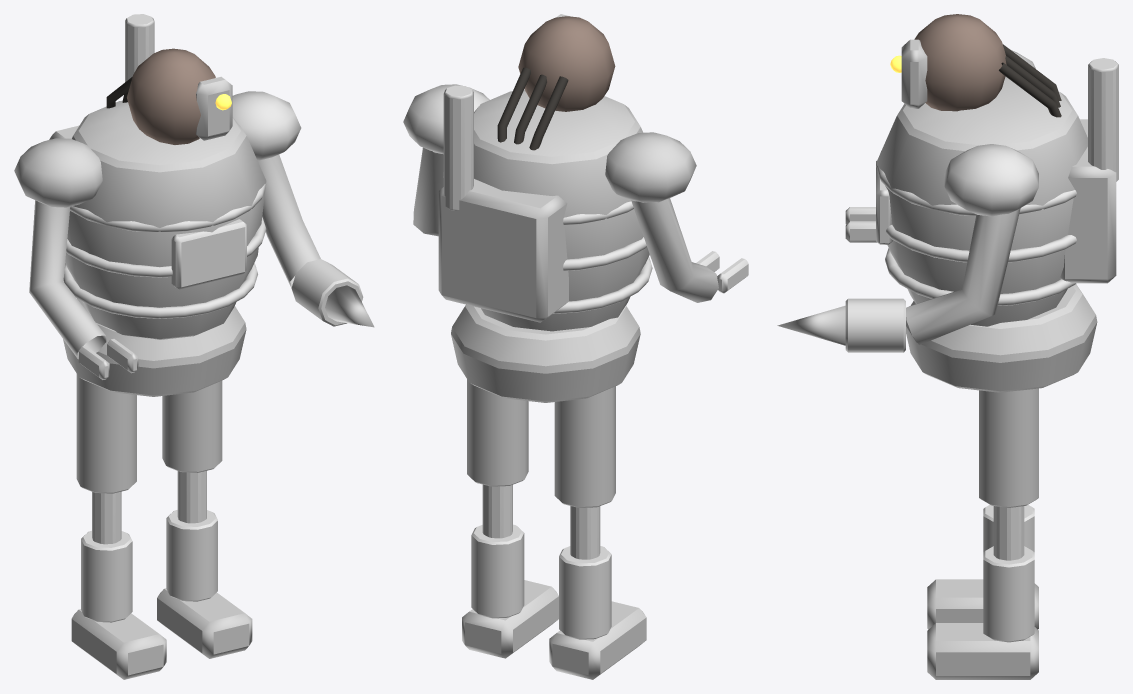
The model's file is crew_servitor.glb.
3 views of the same model, side by side, from view 1: azimuth 30°, elevation 25°; view 2: azimuth 150°, elevation 25°; view 3: azimuth 270°, elevation 25° (orthographic). The views are drawn at different scales.
Visible parts, largest first — view 1: crew__iron_decay, crew__soot_iron, crew__brass_pipe, crew__flesh, crew__hazard_paint; view 2: crew__iron_decay, crew__soot_iron, crew__brass_pipe, crew__flesh, crew__cable, crew__hazard_paint; view 3: crew__iron_decay, crew__soot_iron, crew__hazard_paint, crew__brass_pipe, crew__flesh, crew__cable.
Part boxes in pixels (x1,y1,x2,y2): crew__iron_decay: (14,76,374,679); crew__soot_iron: (81,14,246,622); crew__brass_pipe: (63,183,266,544); crew__flesh: (127,48,215,144); crew__hazard_paint: (232,91,363,326); crew__iron_decay: (413,14,718,679); crew__soot_iron: (443,85,611,639); crew__brass_pipe: (443,176,748,559); crew__flesh: (518,16,615,111); crew__cable: (497,67,568,150); crew__hazard_paint: (403,84,489,154); crew__iron_decay: (777,39,1116,679); crew__soot_iron: (876,58,1118,642); crew__hazard_paint: (845,144,1038,352); crew__brass_pipe: (845,151,1076,560); crew__flesh: (914,14,1006,111); crew__cable: (999,44,1061,117).
Size of the model in its own units: 0.7755 by 1.62 by 0.796.
